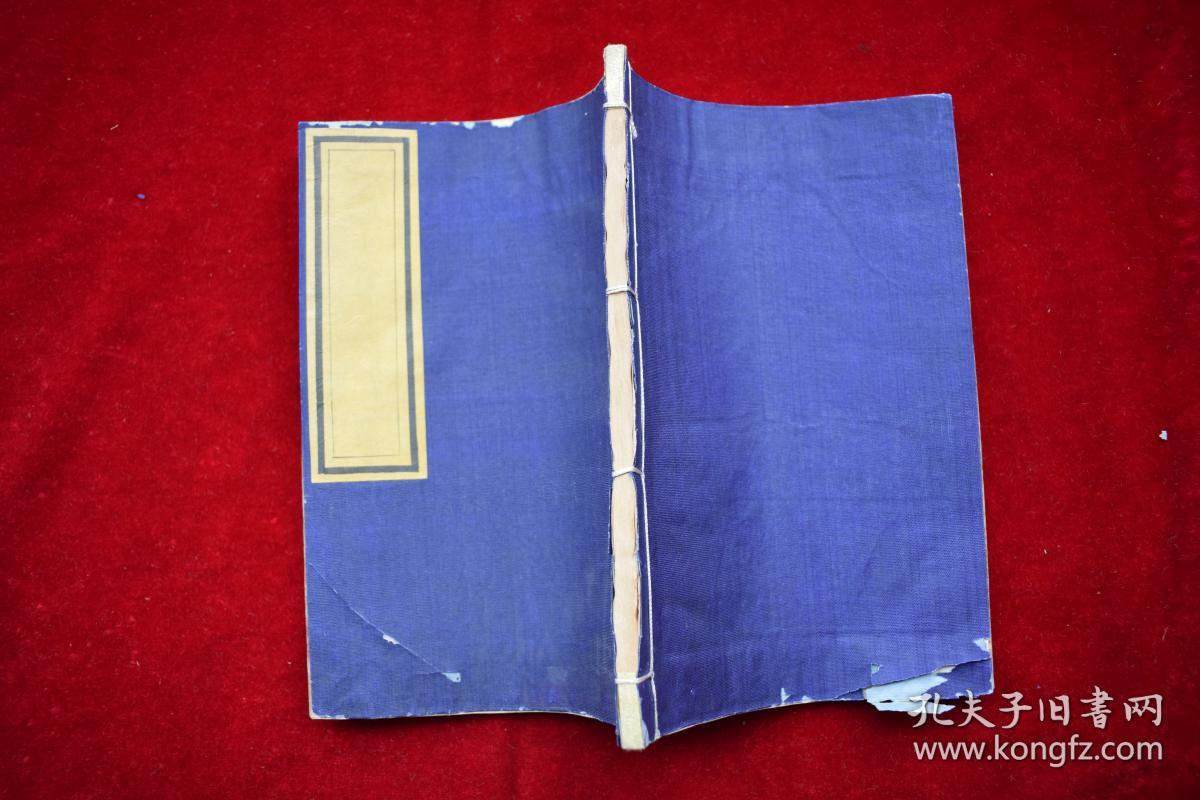book: (270, 34, 1043, 772)
